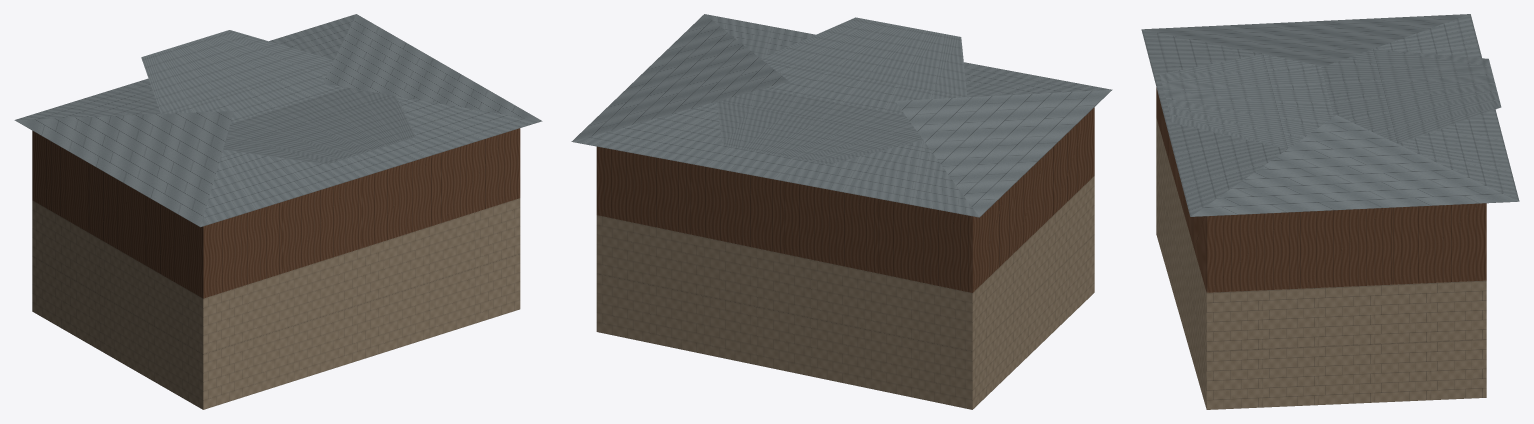
The model's file is bld_c0_30_565.gltf.
3 renders of one model, left to right at view 1: azimuth 30°, elevation 25°; view 2: azimuth 150°, elevation 25°; view 3: azimuth 270°, elevation 25°, orthographic. The views are drawn at different scales.
Parts seen in each view (by area): view 1: bld_c0_30_565; view 2: bld_c0_30_565; view 3: bld_c0_30_565.
Part boxes in pixels (x1,y1,x2,y2): bld_c0_30_565: (14,14,542,409); bld_c0_30_565: (571,14,1112,409); bld_c0_30_565: (1141,14,1519,409).
Size of the model in its own units: 17.6 by 9.1 by 13.86.
Materials: 3 (3 with a texture image).
